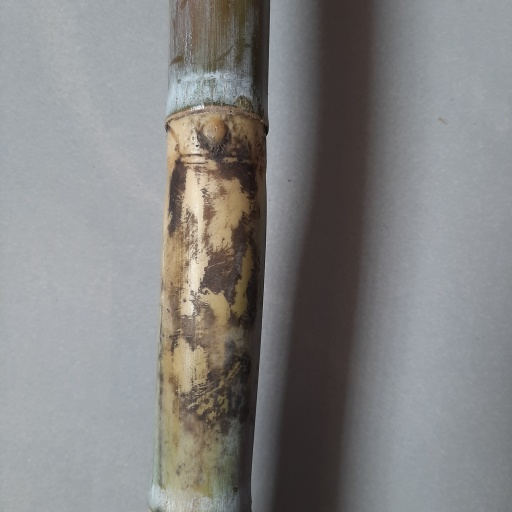Bud: (201, 118, 231, 159)
